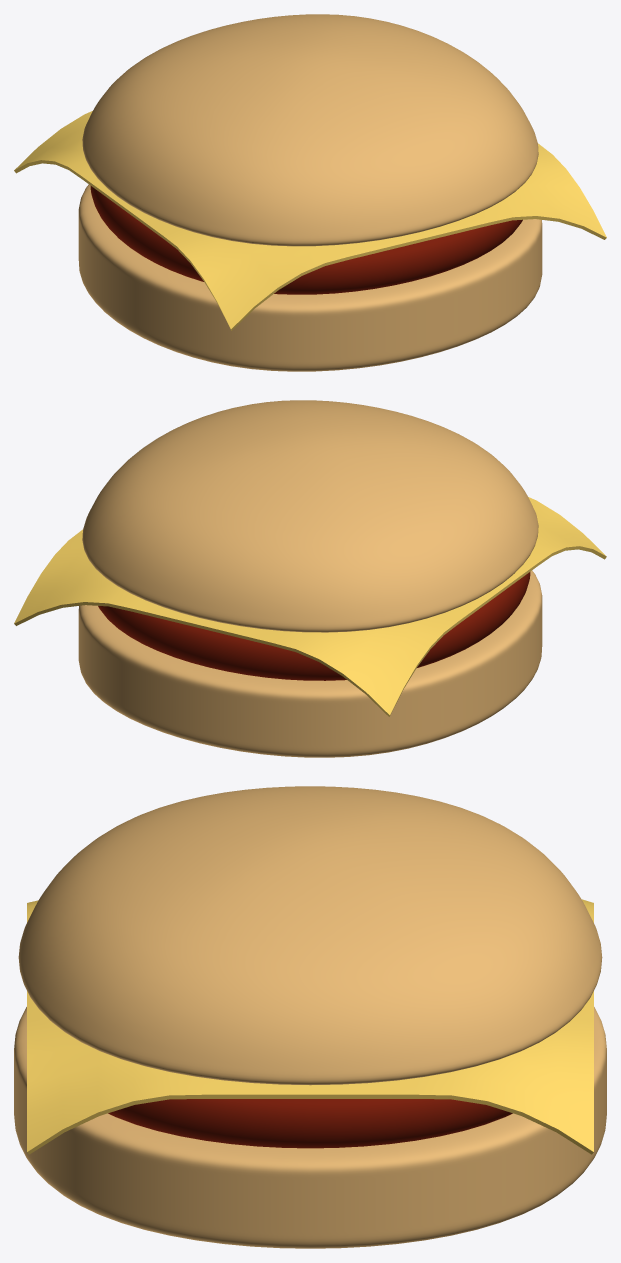
File: hamburger.glb
The picture shows the model from 3 angles, top to bottom: view 1: azimuth 30°, elevation 25°; view 2: azimuth 150°, elevation 25°; view 3: azimuth 270°, elevation 25°; orthographic projection. The views are drawn at different scales.
Parts seen in each view (by area): view 1: Cube.002, Cube, Plane, Cube.001; view 2: Cube.002, Cube, Plane, Cube.001; view 3: Cube.002, Cube, Plane, Cube.001.
Boxes of the visible parts, x1,y1,x2,y2 form: Cube.002: (82,14,538,246); Cube: (78,184,542,371); Plane: (14,111,606,330); Cube.001: (90,186,522,294); Cube.002: (82,400,538,632); Cube: (78,570,542,757); Plane: (14,497,606,716); Cube.001: (98,572,530,680); Cube.002: (18,786,602,1085); Cube: (14,1007,606,1248); Plane: (27,899,593,1154); Cube.001: (108,1099,512,1148).
Bounding box in the file's own units: 9.05 × 5.1 × 9.05.
